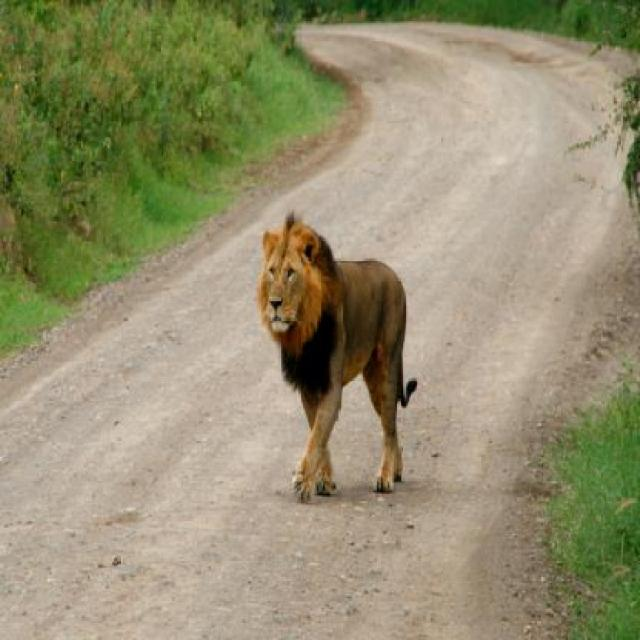Lion: (254, 206, 429, 506)
